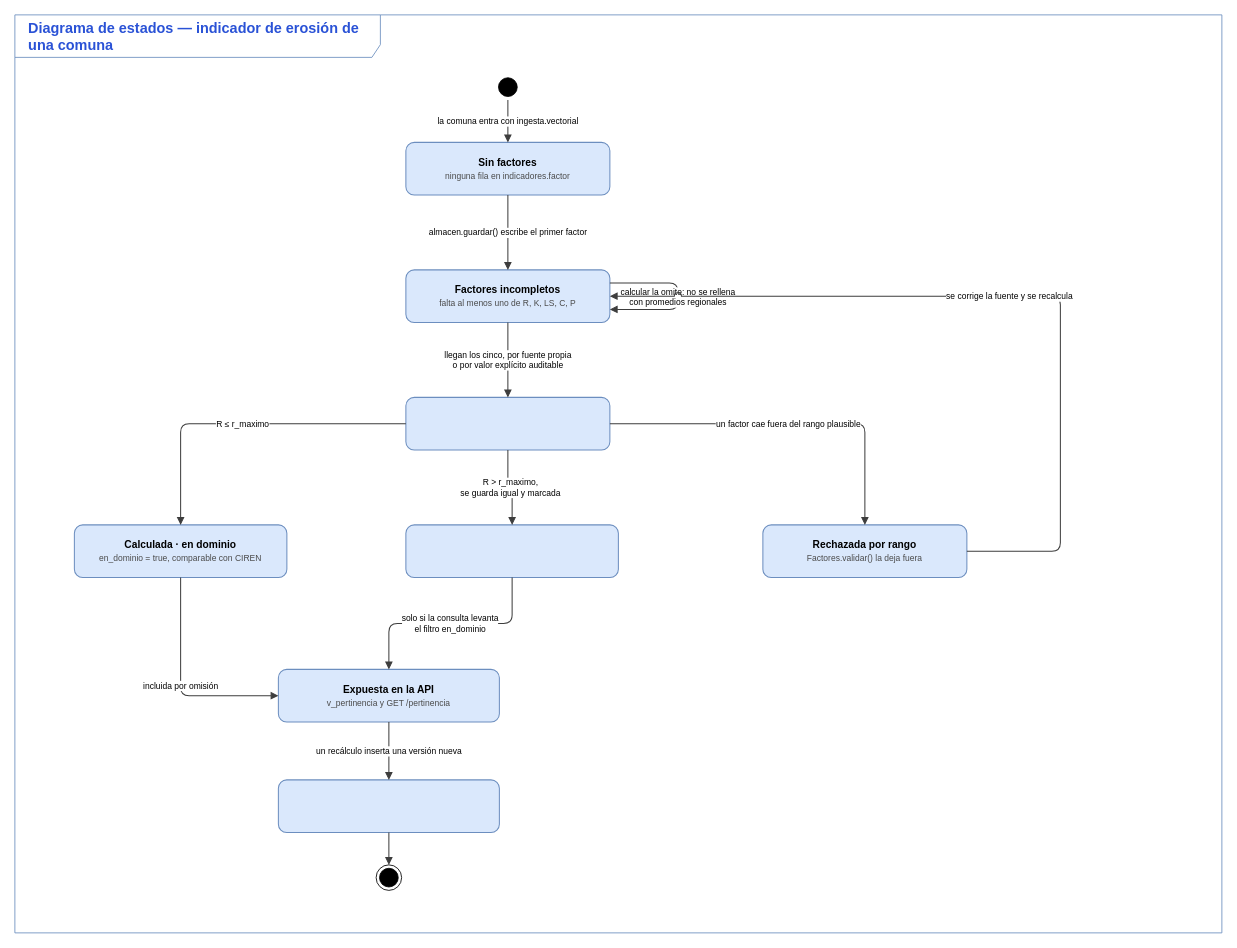
Image size: 1237x948. Some labels were removed from this diagram. Each missing label, with the box of its shape:
Calculada · fuera de dominio en_dominio = false, precordillera: (405, 524, 618, 578)
Factores completos están los cinco, con fuente y año: (405, 396, 610, 450)
Versión superada queda en el histórico, auditable: (277, 779, 499, 833)
